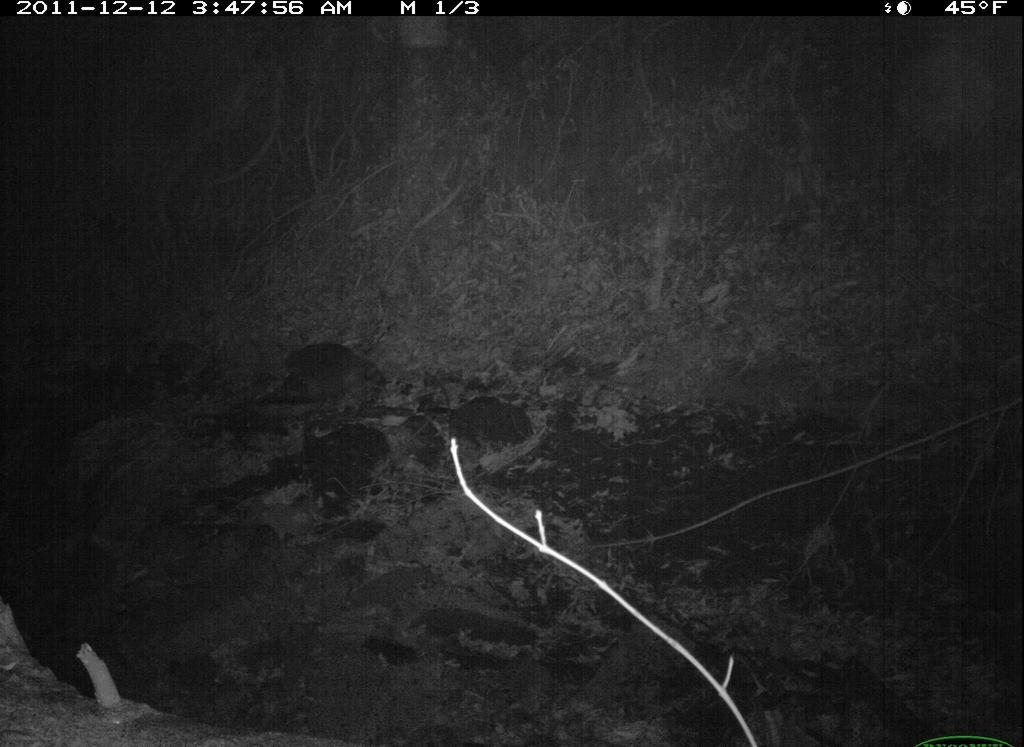raccoon: (250, 333, 397, 418)
